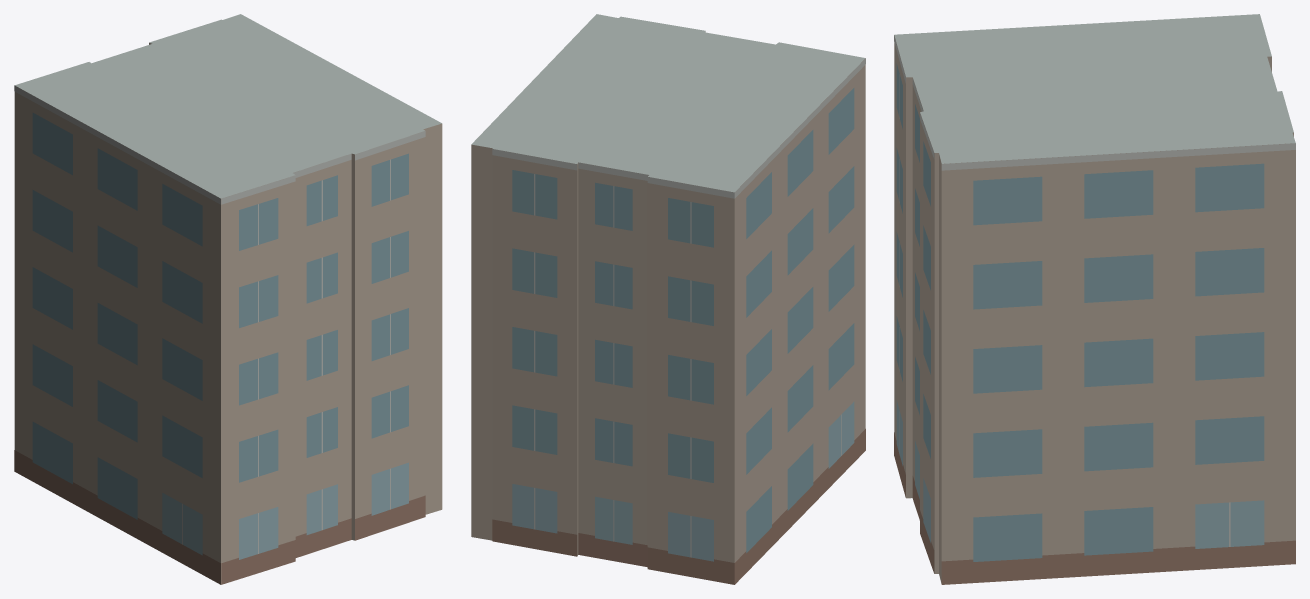
Rendered from survey-upis-33002104.glb.
The picture shows the model from 3 angles, left to right: view 1: azimuth 30°, elevation 25°; view 2: azimuth 150°, elevation 25°; view 3: azimuth 270°, elevation 25°; orthographic projection. The views are drawn at different scales.
Visible parts, largest first — view 1: survey-upis-33002104.tmp; view 2: survey-upis-33002104.tmp; view 3: survey-upis-33002104.tmp.
Part boxes in pixels (box(x1,y1,x2,y2)): survey-upis-33002104.tmp: box(14, 14, 442, 584); survey-upis-33002104.tmp: box(471, 14, 865, 584); survey-upis-33002104.tmp: box(894, 14, 1295, 584).
Size of the model in its own units: 11.66 by 15.25 by 13.19.
